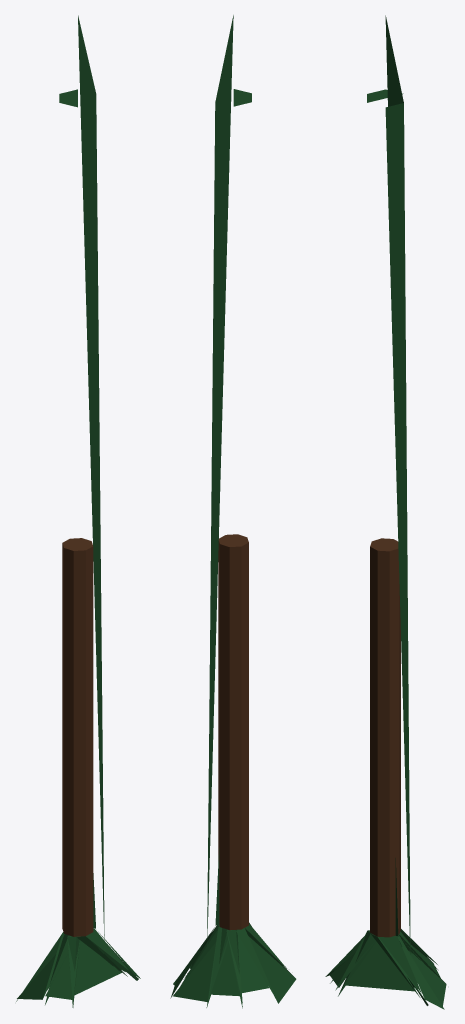
Rendered from evergreen_tree.obj.
3 renders of one model, left to right at view 1: azimuth 30°, elevation 25°; view 2: azimuth 210°, elevation 25°; view 3: azimuth 330°, elevation 25°, orthographic.
Parts seen in each view (by area): view 1: EvergreenTree; view 2: EvergreenTree; view 3: EvergreenTree.
Boxes of the visible parts, x1=… form: EvergreenTree: x1=16, y1=15, x2=140, y2=1007; EvergreenTree: x1=170, y1=15, x2=296, y2=1008; EvergreenTree: x1=325, y1=15, x2=446, y2=1009.
Size of the model in its own units: 0.5137 by 4.07 by 0.4094.
